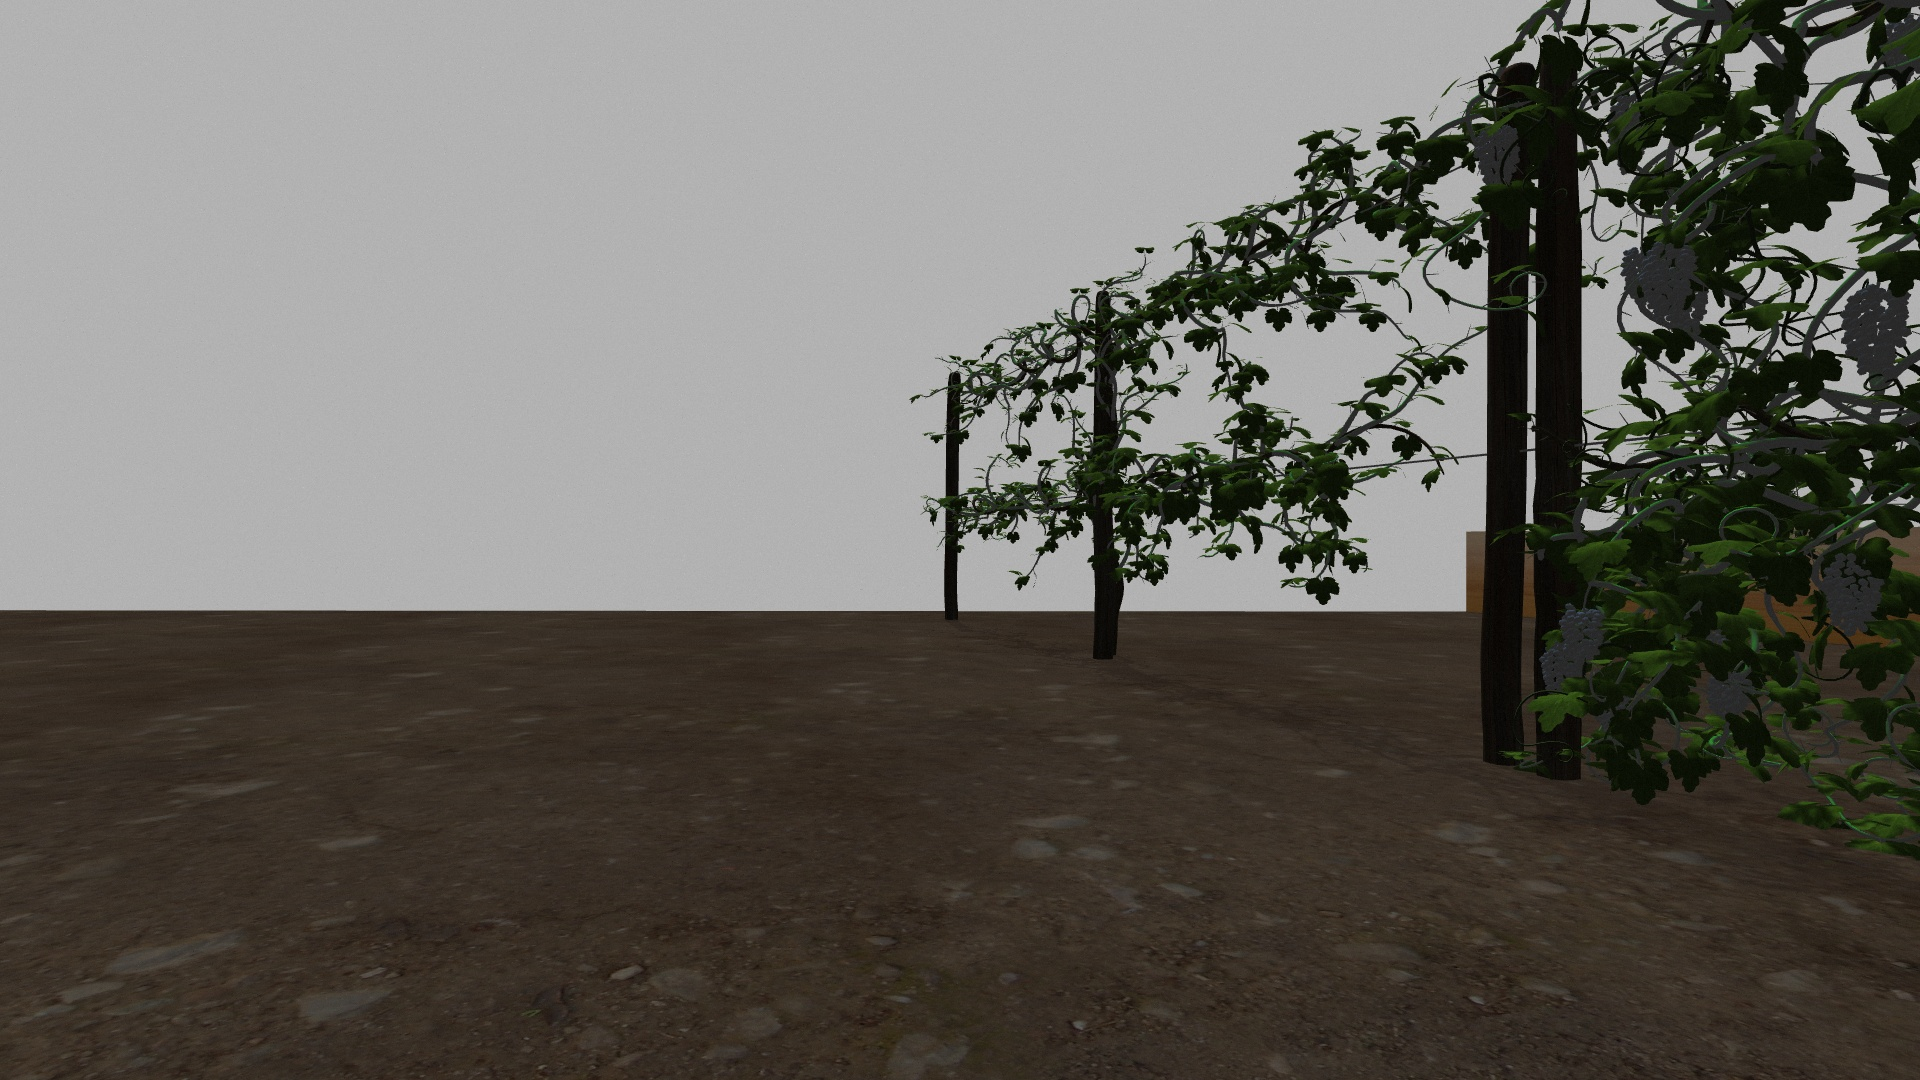grape: (1840, 280, 1909, 385), (1822, 550, 1884, 636), (1636, 245, 1693, 316), (1474, 124, 1522, 191), (1697, 665, 1755, 717), (1559, 604, 1606, 661), (1535, 647, 1575, 692), (1619, 247, 1646, 297)
